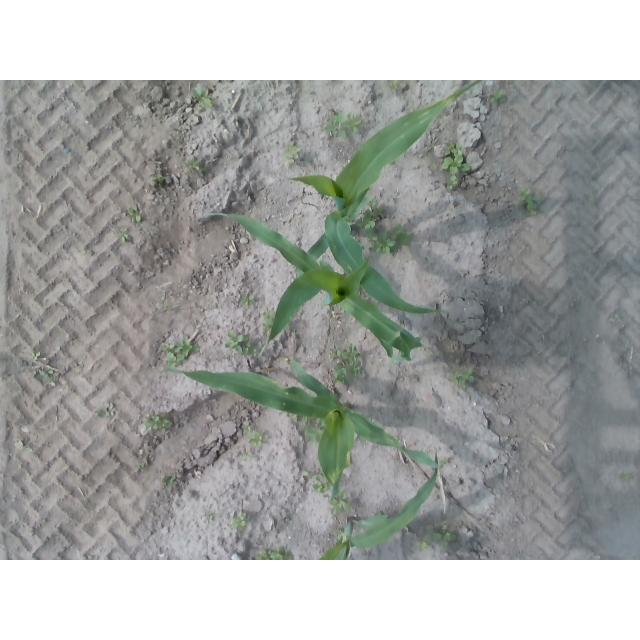Maize: (288, 80, 484, 313), (159, 360, 444, 505), (207, 213, 426, 364), (318, 452, 440, 561)
Weeds: (354, 199, 412, 255), (327, 342, 366, 386), (441, 142, 472, 192), (159, 338, 201, 370), (324, 112, 364, 141), (224, 329, 257, 357), (515, 187, 539, 218), (448, 366, 477, 391), (431, 522, 458, 548), (144, 412, 177, 433), (251, 546, 293, 560), (330, 491, 355, 514), (192, 87, 214, 112), (284, 141, 305, 167), (162, 293, 182, 316), (182, 155, 205, 174), (490, 88, 511, 108), (248, 429, 268, 448), (232, 511, 249, 533), (311, 473, 329, 493), (303, 425, 322, 442), (239, 292, 257, 309), (127, 205, 143, 224), (289, 414, 312, 427), (264, 311, 276, 335), (415, 535, 430, 553), (149, 171, 168, 185), (116, 227, 132, 243), (97, 403, 111, 420), (239, 448, 253, 462), (387, 81, 400, 96), (161, 474, 177, 486), (617, 471, 632, 481), (40, 368, 55, 378), (204, 513, 217, 524), (333, 527, 343, 539), (31, 351, 41, 363), (610, 314, 622, 323), (137, 461, 147, 471), (241, 426, 251, 435), (442, 456, 451, 464), (301, 470, 311, 477), (587, 193, 595, 201)
